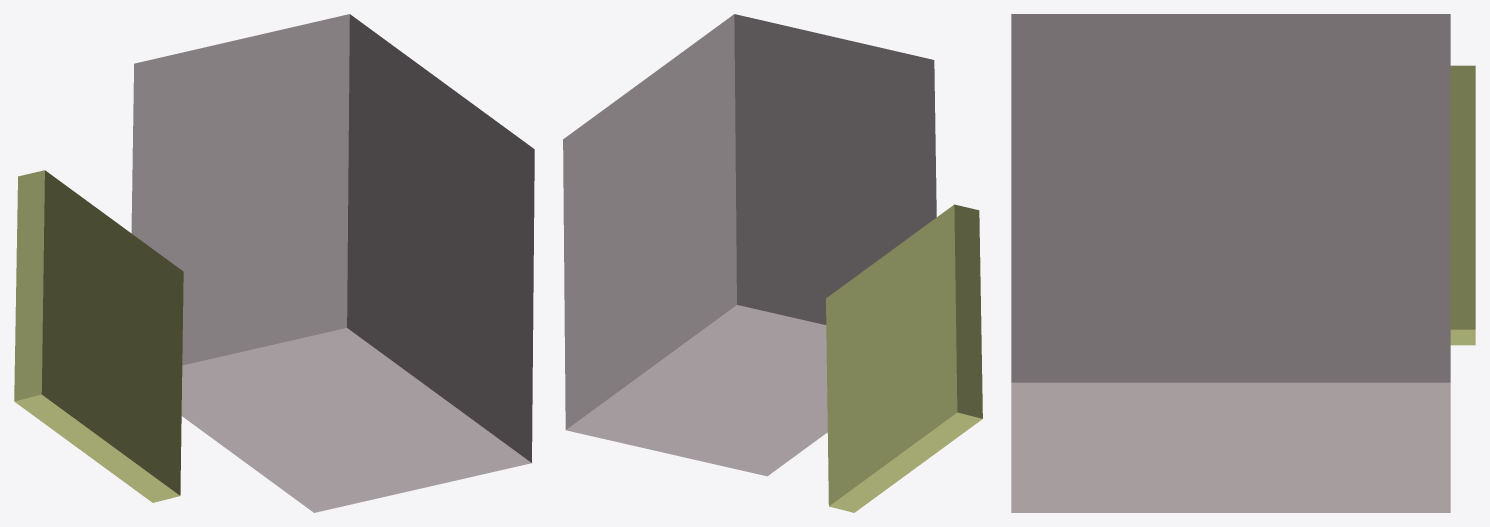
3 renders of one model, left to right at view 1: azimuth 30°, elevation 25°; view 2: azimuth 150°, elevation 25°; view 3: azimuth 270°, elevation 25°, orthographic. The views are drawn at different scales.
Visible parts, largest first — view 1: 0_2_1_0_0_0_0_0_1_3_3; view 2: 0_2_1_0_0_0_0_0_1_3_3; view 3: 0_2_1_0_0_0_0_0_1_3_3.
Boxes of the visible parts, box(x1,y1,x2,y2) form: 0_2_1_0_0_0_0_0_1_3_3: box(14, 14, 534, 512); 0_2_1_0_0_0_0_0_1_3_3: box(563, 14, 982, 512); 0_2_1_0_0_0_0_0_1_3_3: box(1011, 14, 1475, 512).
Bounding box in the file's own units: 12.18 × 11.42 × 12.69.
